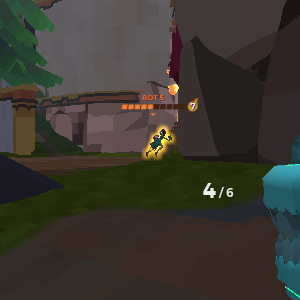model: (144, 127, 172, 162)
